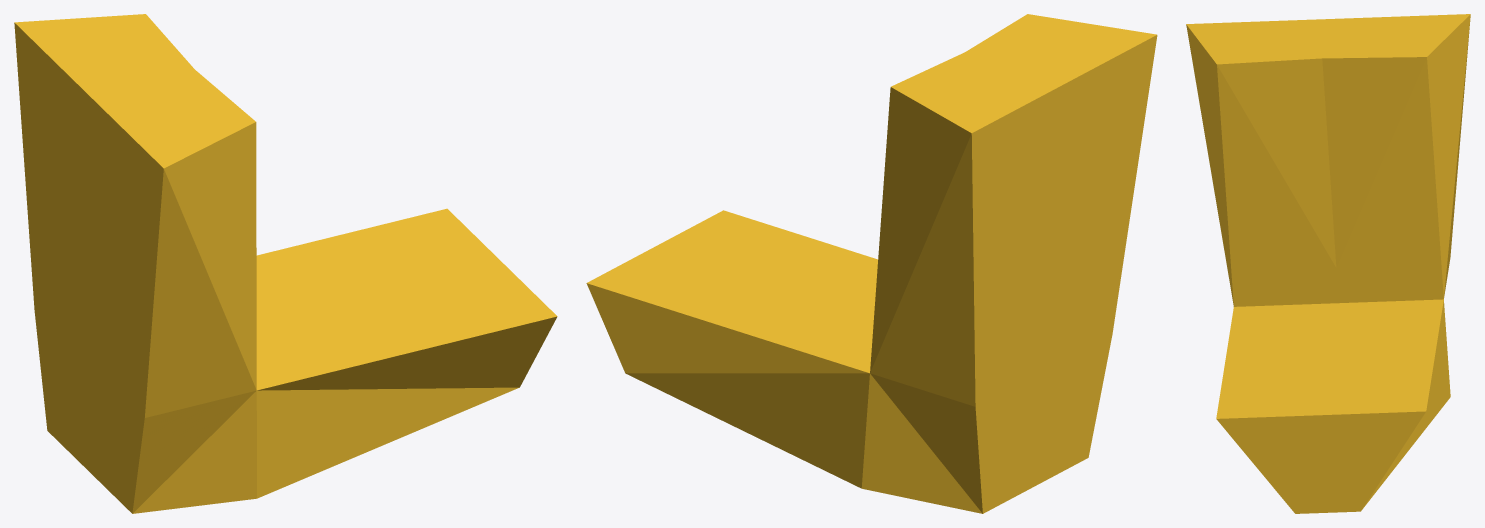
File: food_time_pointer.FBX
3 renders of one model, left to right at view 1: azimuth 30°, elevation 25°; view 2: azimuth 150°, elevation 25°; view 3: azimuth 270°, elevation 25°, orthographic. The views are drawn at different scales.
Visible parts, largest first — view 1: Object002; view 2: Object002; view 3: Object002.
Part boxes in pixels (x1=…): Object002: x1=14, y1=14, x2=557, y2=513; Object002: x1=586, y1=14, x2=1157, y2=513; Object002: x1=1186, y1=14, x2=1470, y2=513.
Bounding box in the file's own units: 3.99 × 3.67 × 2.72.
